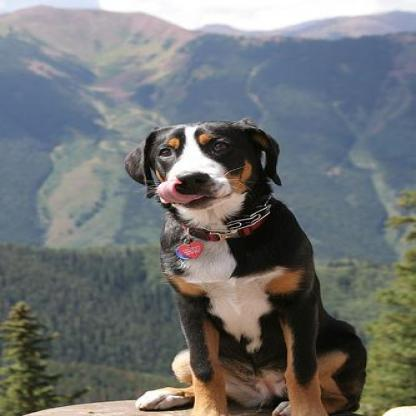Greater_Swiss_Mountain_dog: (118, 116, 372, 414)
